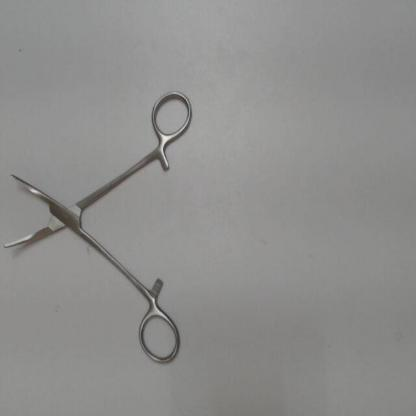Crile Artery Forceps: (0, 77, 198, 371)
